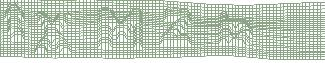M: (96, 7, 145, 52)
X: (32, 11, 73, 56)
Z: (157, 7, 195, 49)
b: (217, 9, 254, 49)
t: (4, 3, 28, 44)
